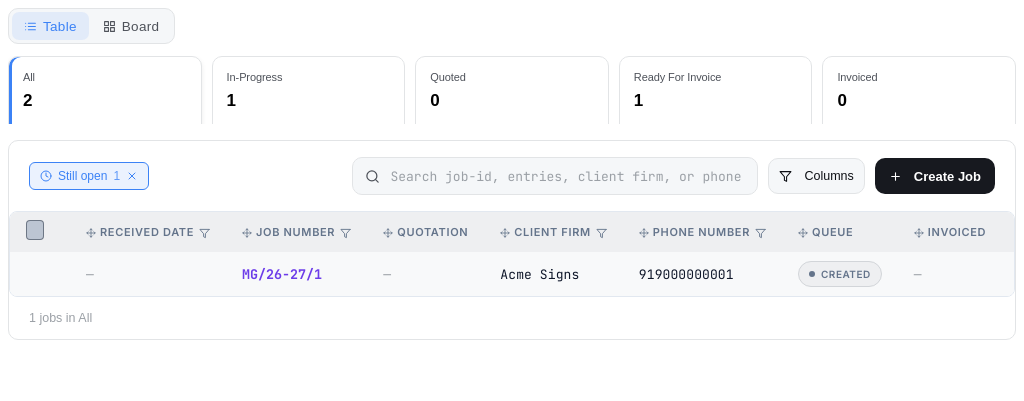
arriving from the dashboard's still-open alert › puts the finished job-id back when the chip is pressed
expect the button "MG/26-27/1" is shown: met, box x1=242 y1=265 x2=322 y2=283
Click the button with aria-label "still-open filter" at point(89, 176), box x1=29 y1=162 x2=149 y2=190
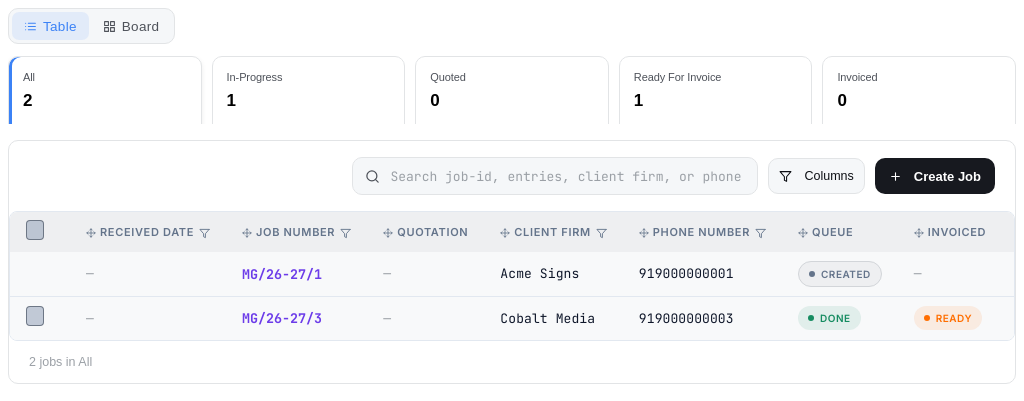
expect the button "MG/26-27/3" is shown: met, box x1=242 y1=309 x2=322 y2=327
